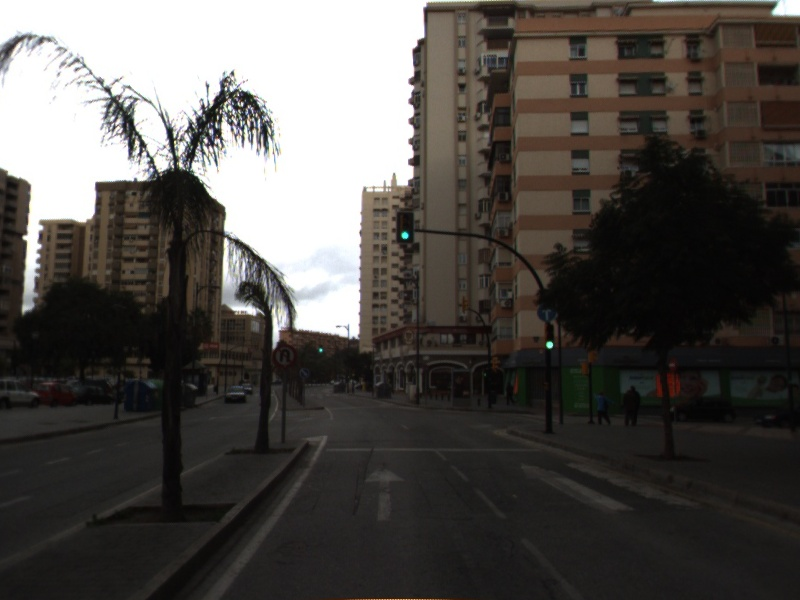STRAIGHT: (361, 461, 410, 524)
